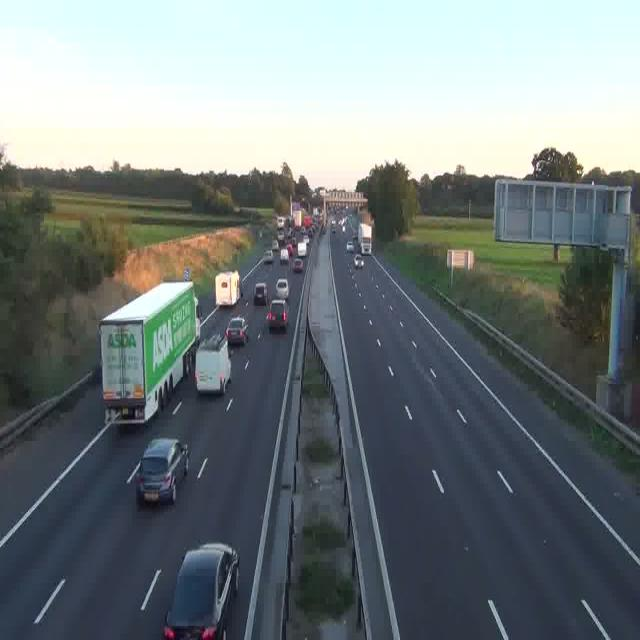car: (163, 543, 238, 640), (136, 438, 190, 505), (195, 337, 231, 394), (225, 314, 248, 346), (268, 300, 288, 332), (252, 283, 268, 305), (275, 279, 289, 301), (352, 252, 362, 270), (292, 259, 302, 273), (264, 249, 274, 262), (282, 247, 290, 262)
truck: (98, 283, 198, 425), (214, 270, 240, 307), (358, 222, 372, 251), (298, 238, 308, 257), (276, 214, 286, 233), (305, 210, 315, 228)
